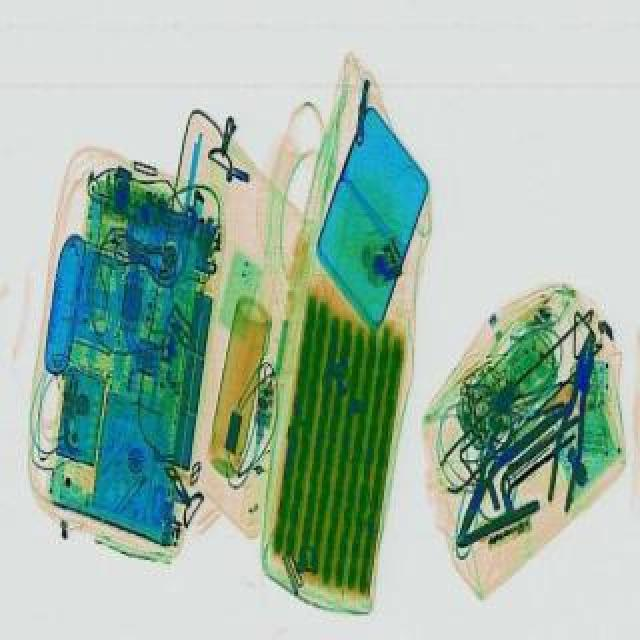wrench: (542, 328, 602, 508), (446, 414, 522, 540)
